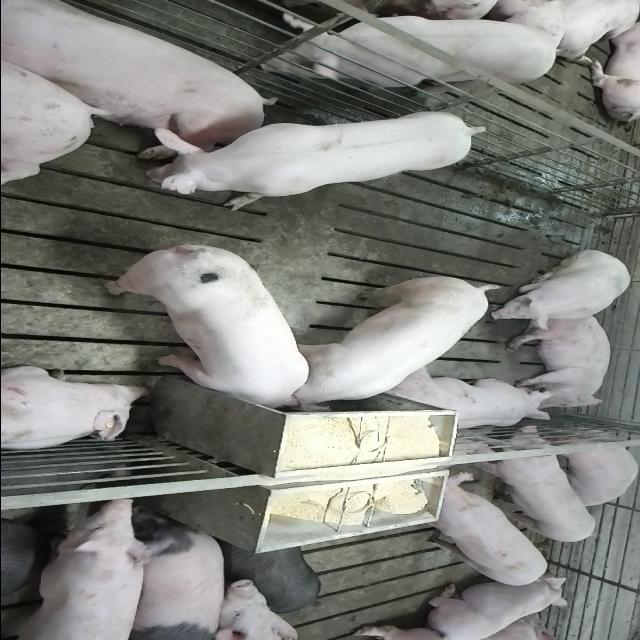Feeding: (102, 248, 308, 420), (280, 274, 502, 409)
Lateral_lying: (4, 3, 278, 161), (504, 314, 611, 410)
Sitting: (484, 250, 632, 330)
Standing: (133, 106, 489, 208), (235, 0, 565, 94), (0, 498, 178, 638), (404, 473, 548, 588), (121, 519, 225, 637), (220, 542, 322, 614)
Sternal_lying: (0, 364, 150, 453), (379, 370, 554, 432), (418, 578, 568, 638)
